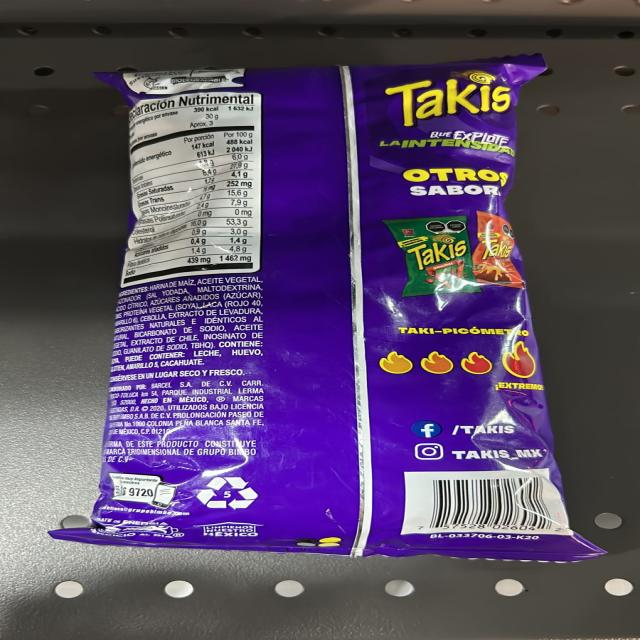productoAtras: (137, 77, 533, 563)
